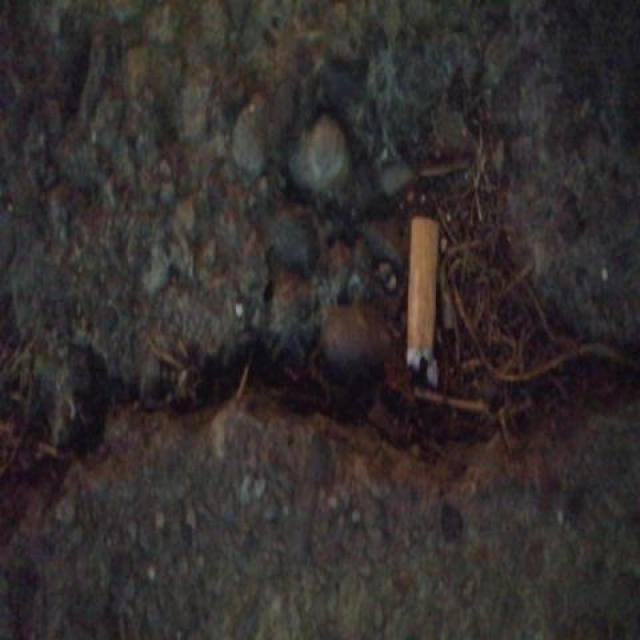non-organic waste: (403, 209, 445, 391)
